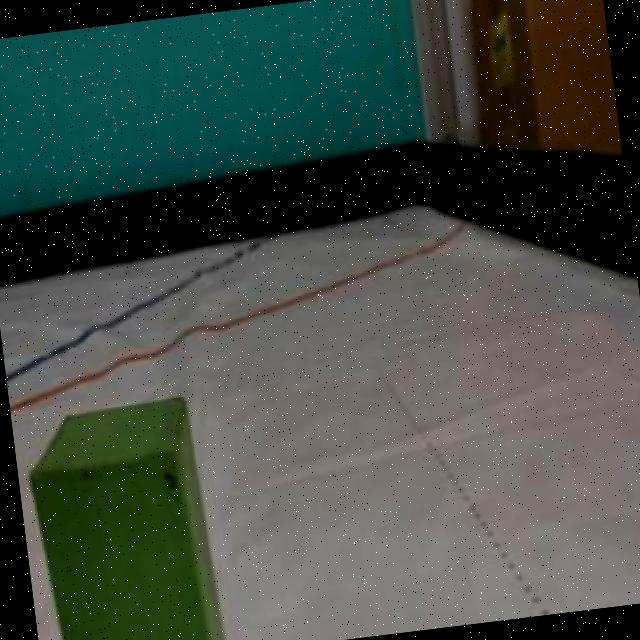greenbox: (17, 393, 229, 640)
